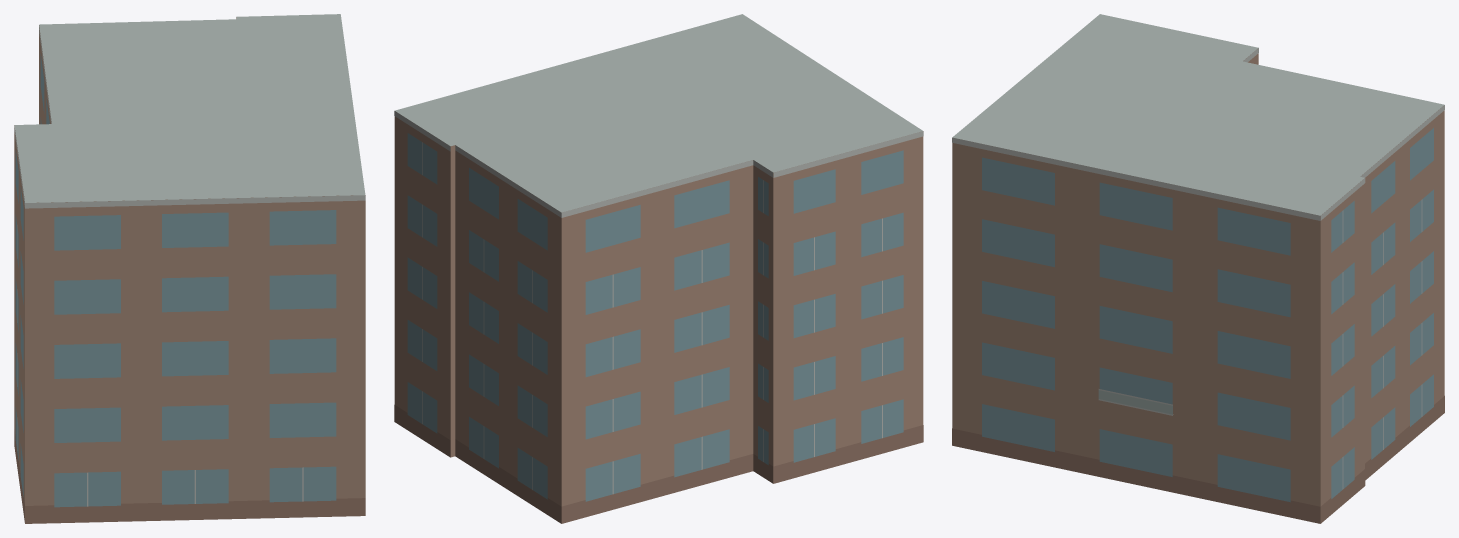
File: survey-upis-32961565.glb
The picture shows the model from 3 angles, left to right: view 1: azimuth 30°, elevation 25°; view 2: azimuth 150°, elevation 25°; view 3: azimuth 270°, elevation 25°; orthographic projection. The views are drawn at different scales.
Parts seen in each view (by area): view 1: survey-upis-32961565.tmp; view 2: survey-upis-32961565.tmp; view 3: survey-upis-32961565.tmp.
Part boxes in pixels (left/top/right/bottom): survey-upis-32961565.tmp: left=14, top=14, right=365, bottom=523; survey-upis-32961565.tmp: left=394, top=14, right=923, bottom=523; survey-upis-32961565.tmp: left=952, top=14, right=1444, bottom=523.
Size of the model in its own units: 19.95 by 14.2 by 20.58.
